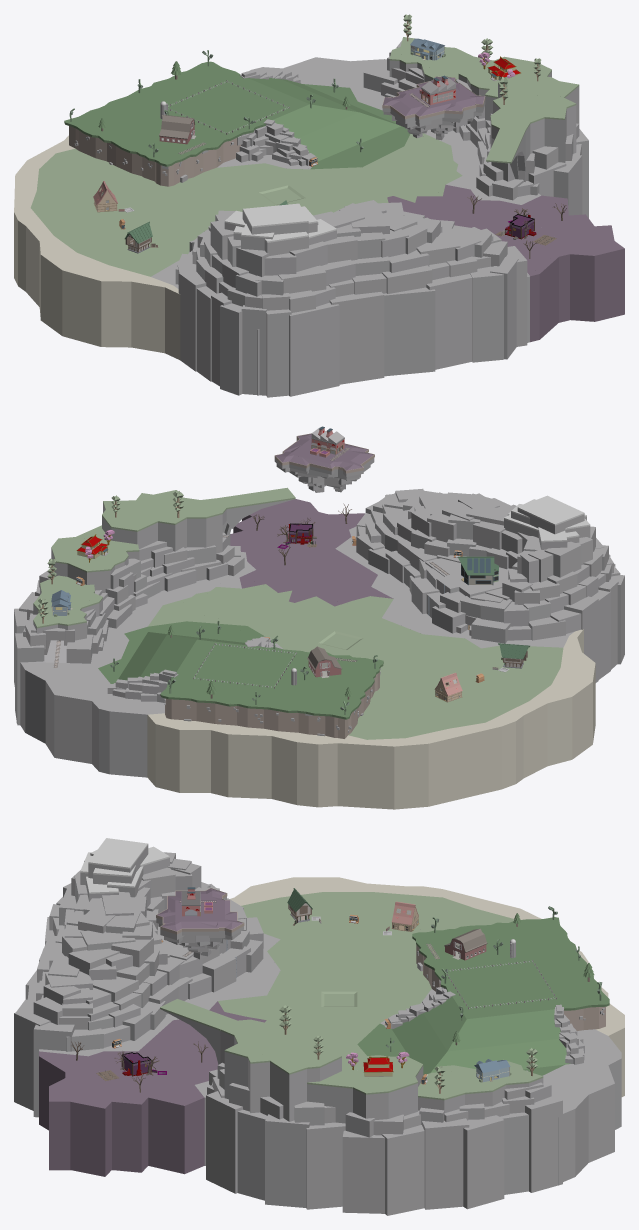
Rendered from Exportigan.gltf.
3 views of the same model, one above another, from view 1: azimuth 30°, elevation 25°; view 2: azimuth 150°, elevation 25°; view 3: azimuth 270°, elevation 25° (orthographic). The views are drawn at different scales.
Parts seen in each view (by area): view 1: Rock (×38), Grass (×11), LushGrass (×8), Sand (×7), WasteGrass (×9), Snow; view 2: Sand (×17), Rock (×30), Grass (×11), LushGrass (×6), WasteGrass (×6), Snow; view 3: Rock (×42), Grass (×11), LushGrass (×8), WasteGrass (×14), Snow, Sand.
Boxes of the visible parts, <box> form: Rock (×38): <box>178,64,588,397</box>; Grass (×11): <box>31,43,563,264</box>; LushGrass (×8): <box>66,62,403,164</box>; Sand (×7): <box>18,217,180,359</box>; WasteGrass (×9): <box>426,190,624,342</box>; Snow: <box>242,203,308,227</box>; Sand (×17): <box>147,660,594,809</box>; Rock (×30): <box>15,504,624,777</box>; Grass (×11): <box>33,487,559,737</box>; LushGrass (×6): <box>118,621,383,716</box>; WasteGrass (×6): <box>230,499,377,602</box>; Snow: <box>517,495,584,525</box>; Rock (×42): <box>14,867,621,1215</box>; Grass (×11): <box>160,897,528,1088</box>; LushGrass (×8): <box>392,917,608,1069</box>; WasteGrass (×14): <box>39,900,224,1176</box>; Snow: <box>88,838,148,869</box>; Sand: <box>251,886,422,891</box>.
Size of what is drawn, in the model's own units: 1547 by 593 by 1476.
